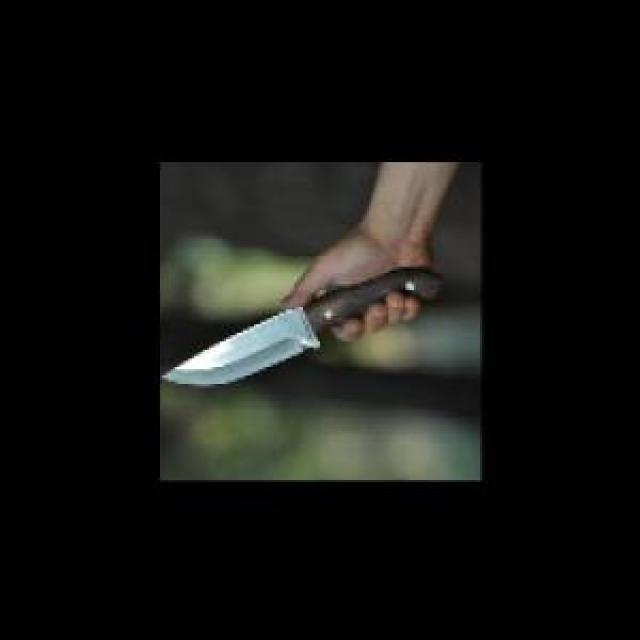knife: (164, 264, 445, 392)
